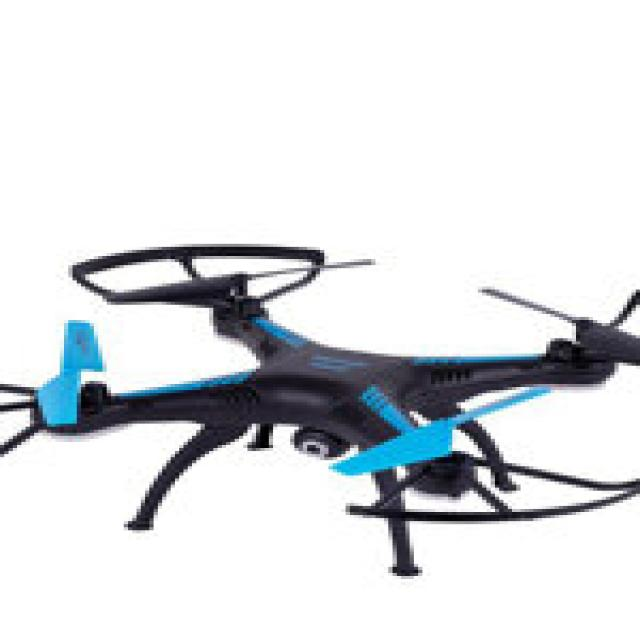drone: (0, 201, 640, 570)
